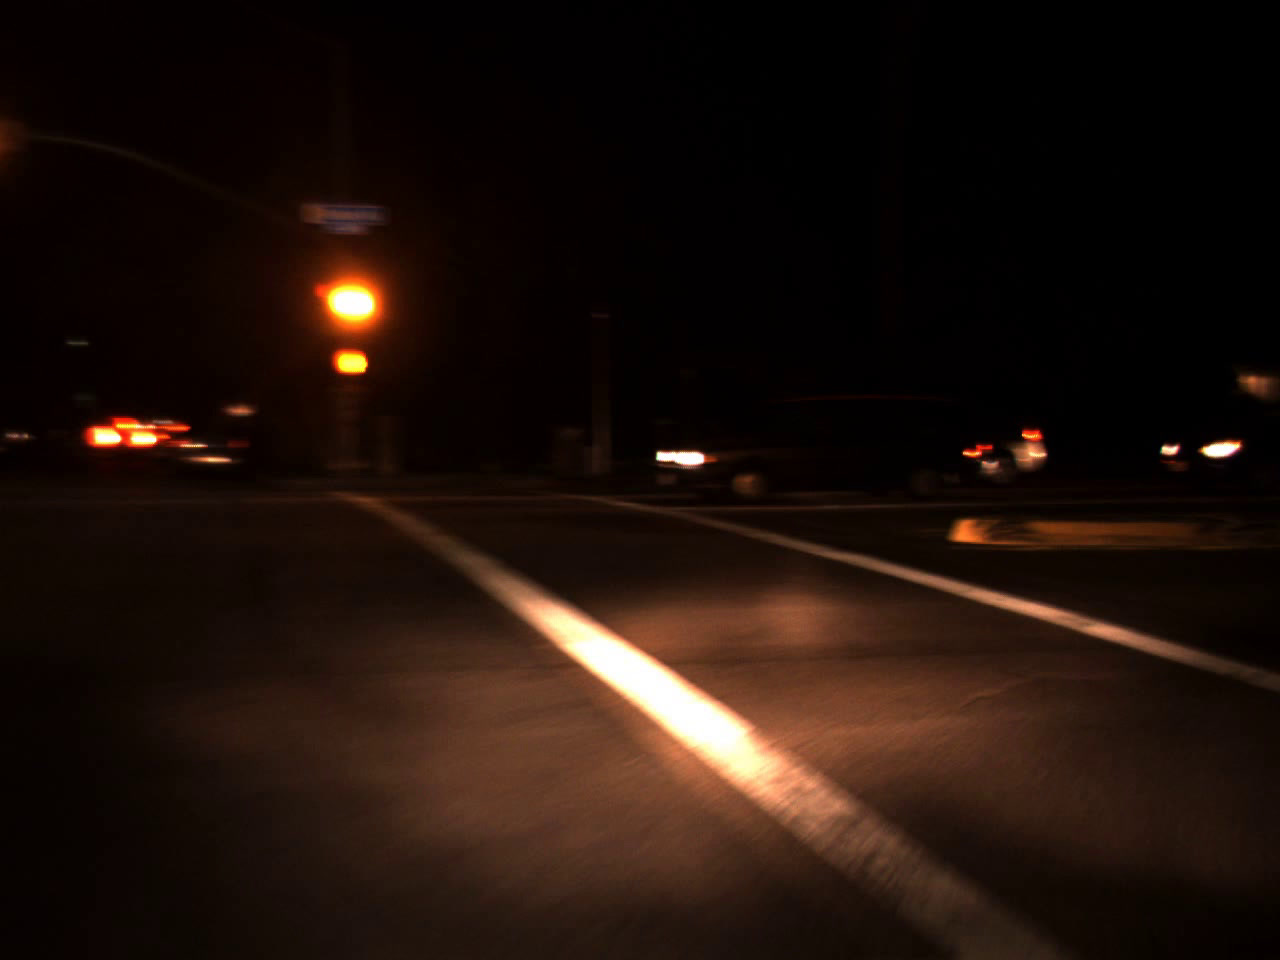warning: (332, 273, 375, 330)
